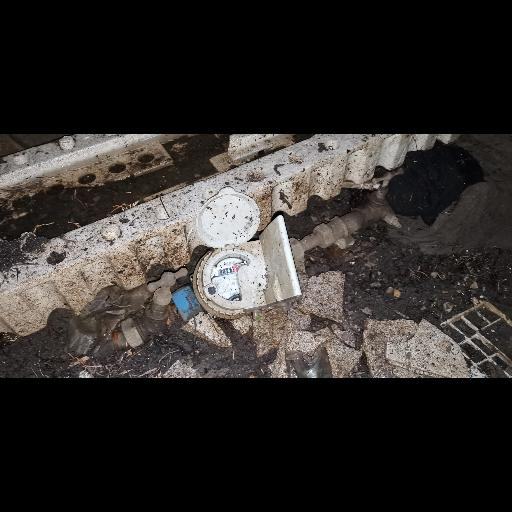0: (218, 270, 223, 277), (233, 267, 237, 273)
1: (221, 269, 225, 276)
2: (224, 269, 228, 276)
7: (230, 267, 234, 273)
8: (227, 268, 231, 275)
border_water_meter_number: (216, 265, 244, 277)
